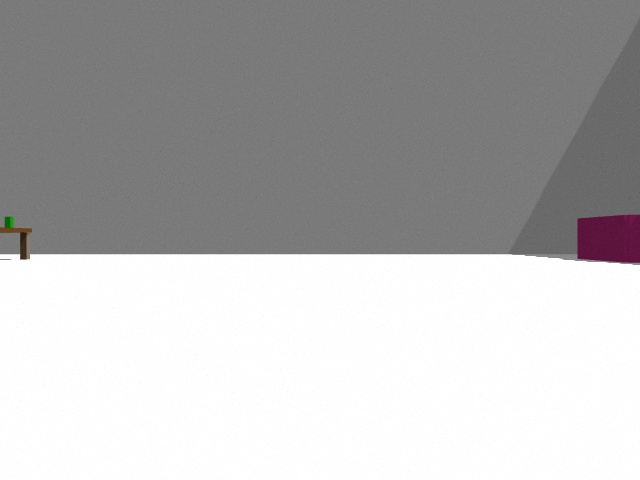green_cube: (5, 217, 14, 228)
red_drop_zone: (577, 215, 640, 263)
